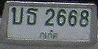txt19: (25, 7, 38, 26)
txt21: (10, 7, 24, 25)
